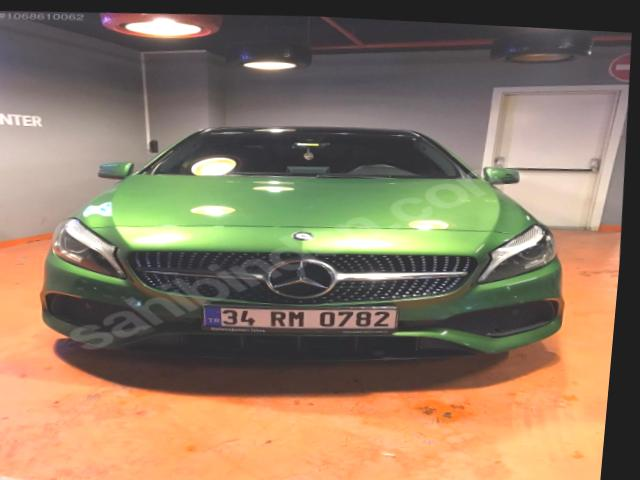plaka: (204, 307, 398, 332)
